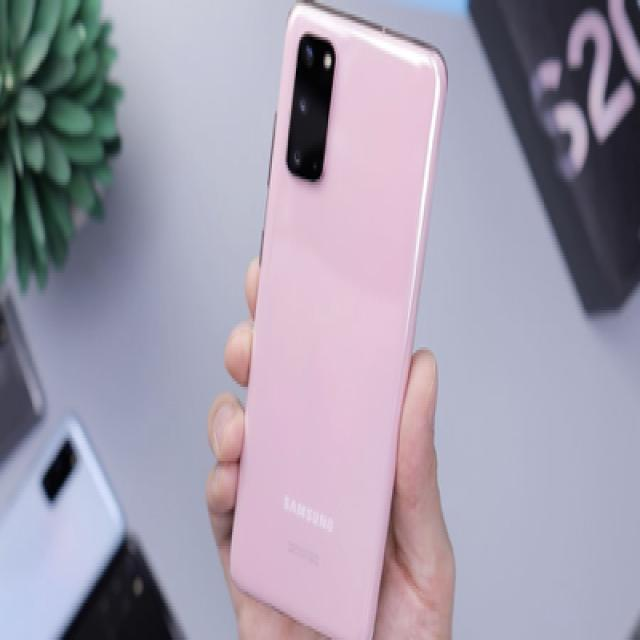cellphone: (227, 0, 448, 637)
